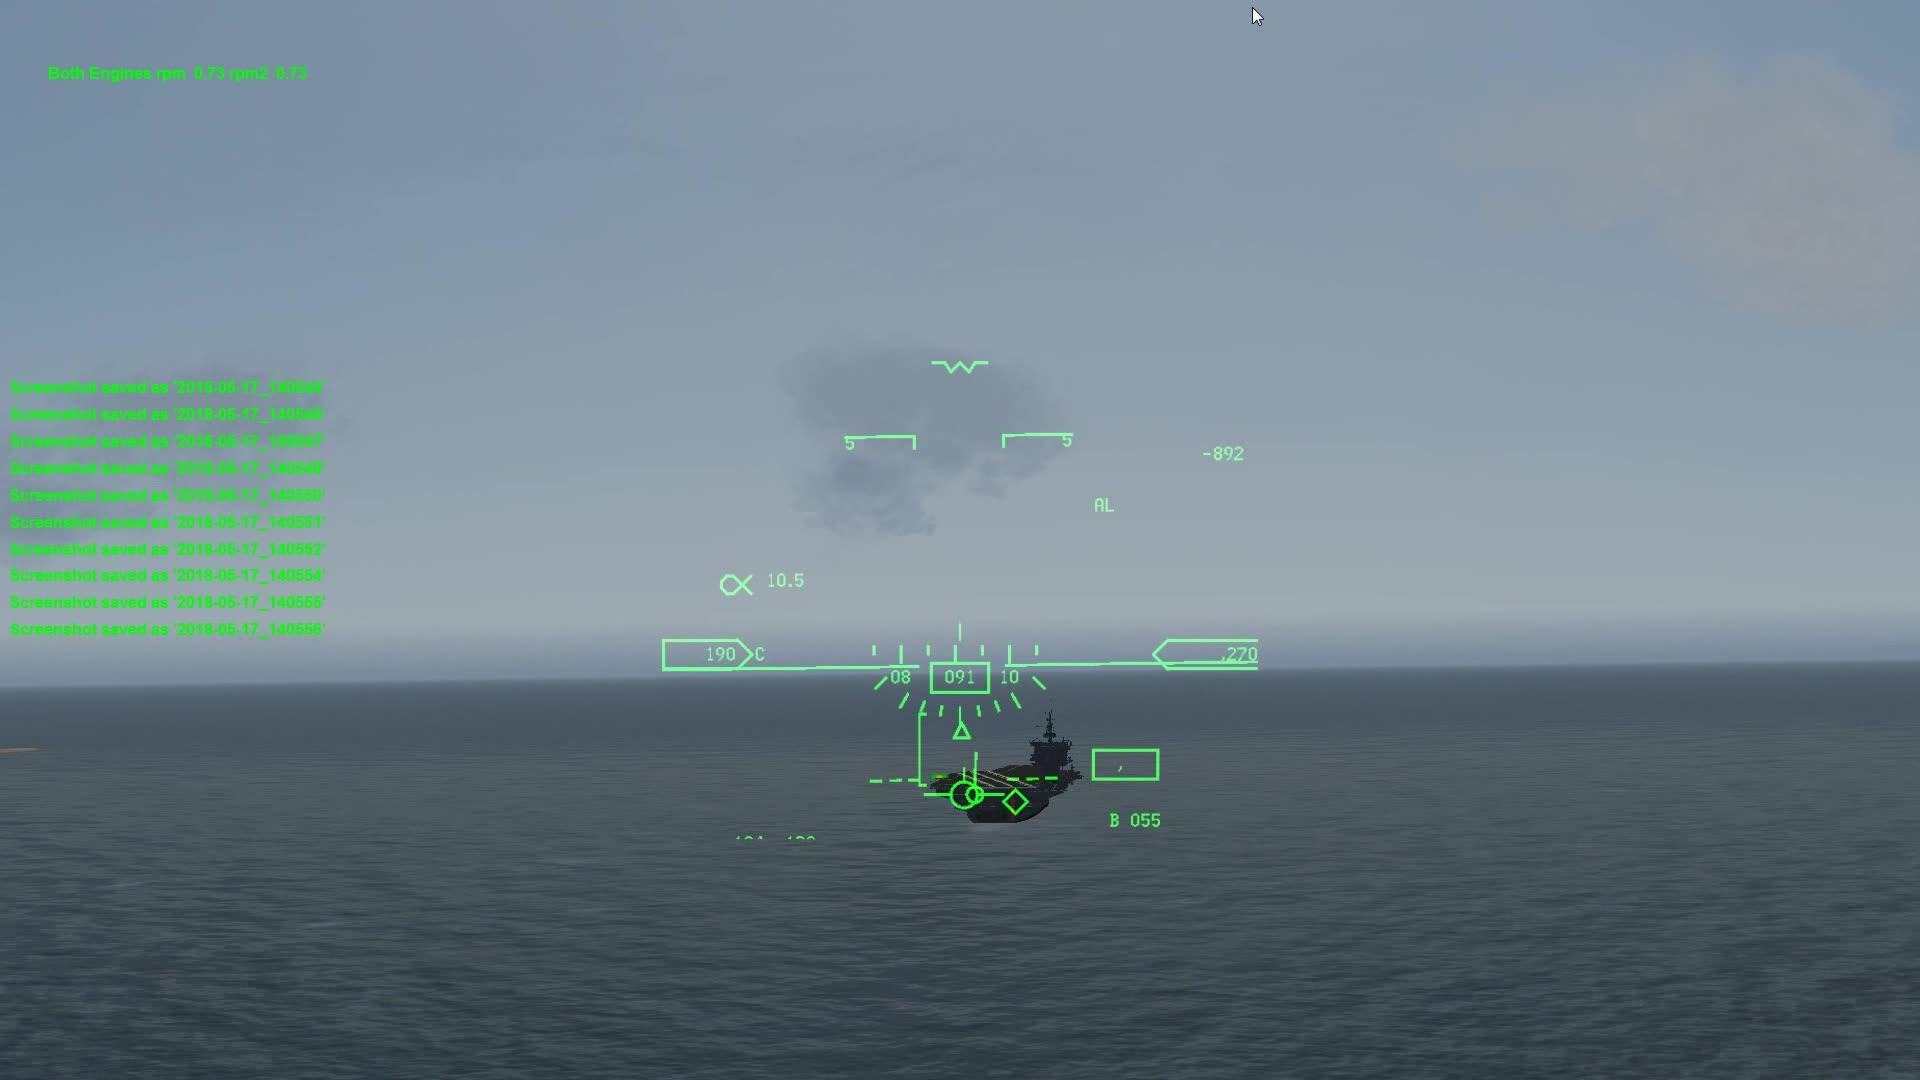speed vector: (918, 766, 1005, 816)
